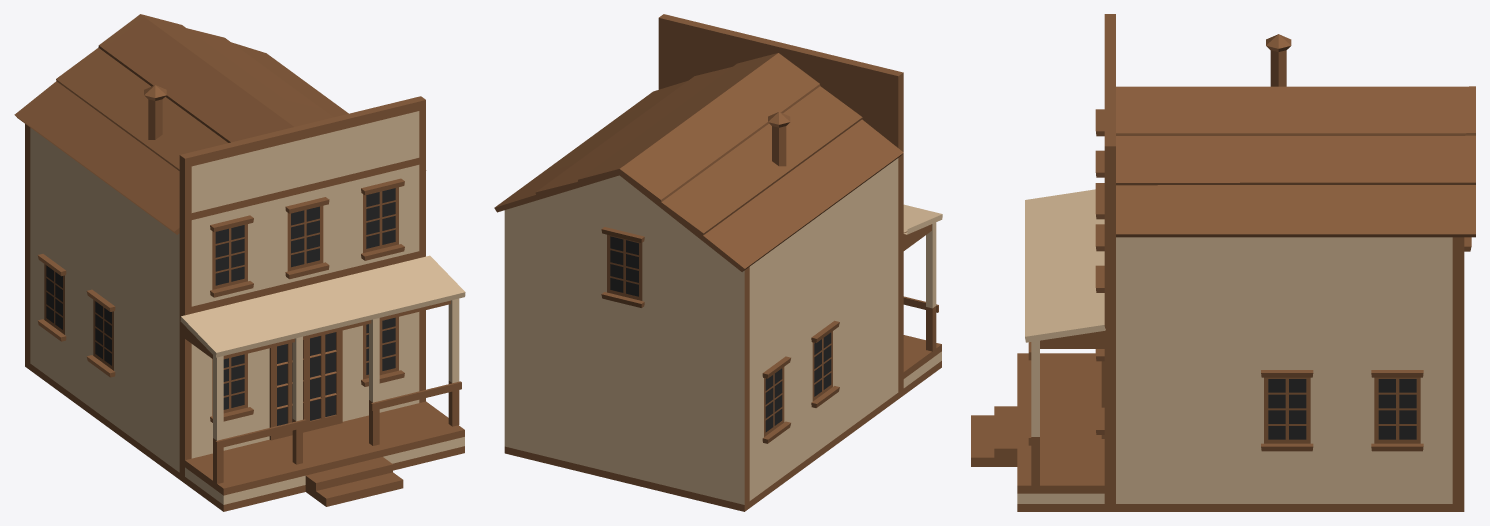
Rendered from western_bank-western.fbx.
3 views of the same model, side by side, from view 1: azimuth 30°, elevation 25°; view 2: azimuth 150°, elevation 25°; view 3: azimuth 270°, elevation 25° (orthographic). The views are drawn at different scales.
Visible parts, largest first — view 1: western_bank_western; view 2: western_bank_western; view 3: western_bank_western.
Part boxes in pixels (box(x1,y1,x2,y2)): western_bank_western: box(14, 14, 465, 511); western_bank_western: box(494, 14, 942, 511); western_bank_western: box(971, 14, 1475, 511).
Bounding box in the file's own units: 130 × 162 × 200.
